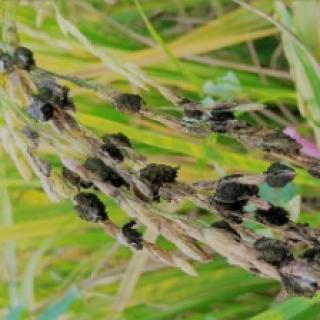Gosong-Palsu: (253, 241, 317, 299), (136, 166, 177, 203), (84, 159, 129, 191), (37, 83, 74, 111), (209, 197, 247, 224), (74, 194, 107, 221), (256, 207, 291, 229), (216, 183, 257, 201), (0, 50, 31, 73), (264, 164, 294, 187), (61, 169, 91, 191), (120, 221, 141, 251), (29, 97, 53, 123), (111, 96, 144, 114), (101, 143, 123, 161), (211, 110, 234, 123), (221, 176, 239, 180)
